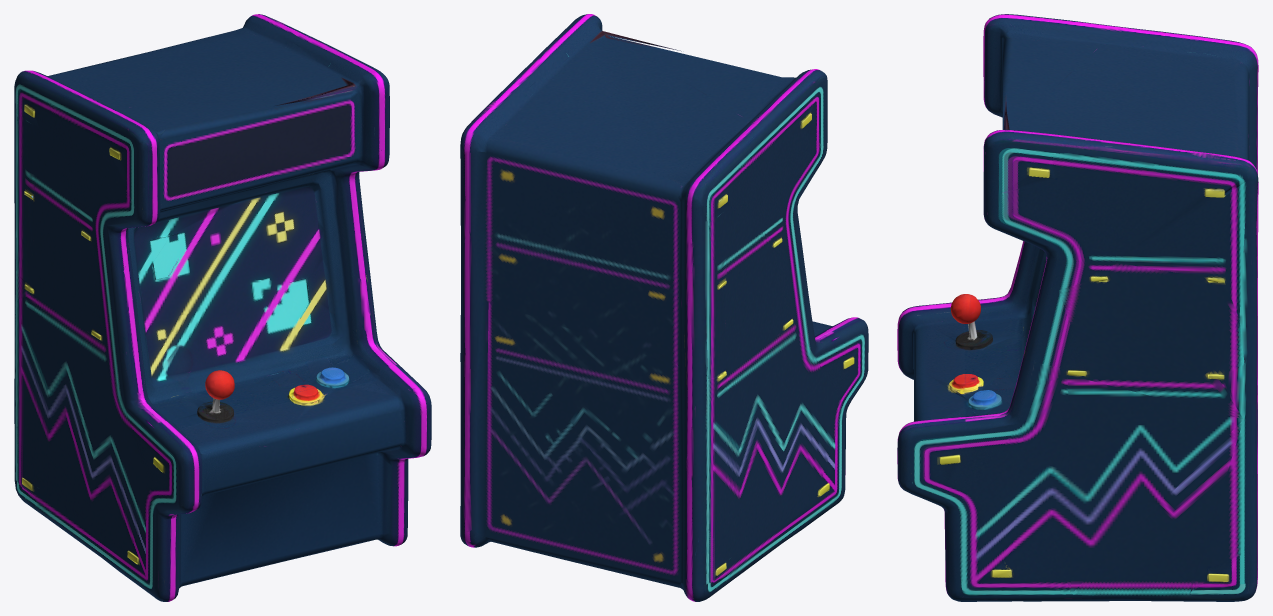
The model's file is maquina-fondo-laberinto.glb.
The picture shows the model from 3 angles, left to right: view 1: azimuth 30°, elevation 25°; view 2: azimuth 150°, elevation 25°; view 3: azimuth 270°, elevation 25°; orthographic projection. The views are drawn at different scales.
Size of the model in its own units: 1.17 by 2 by 1.39.
1 material, 1 textured.
